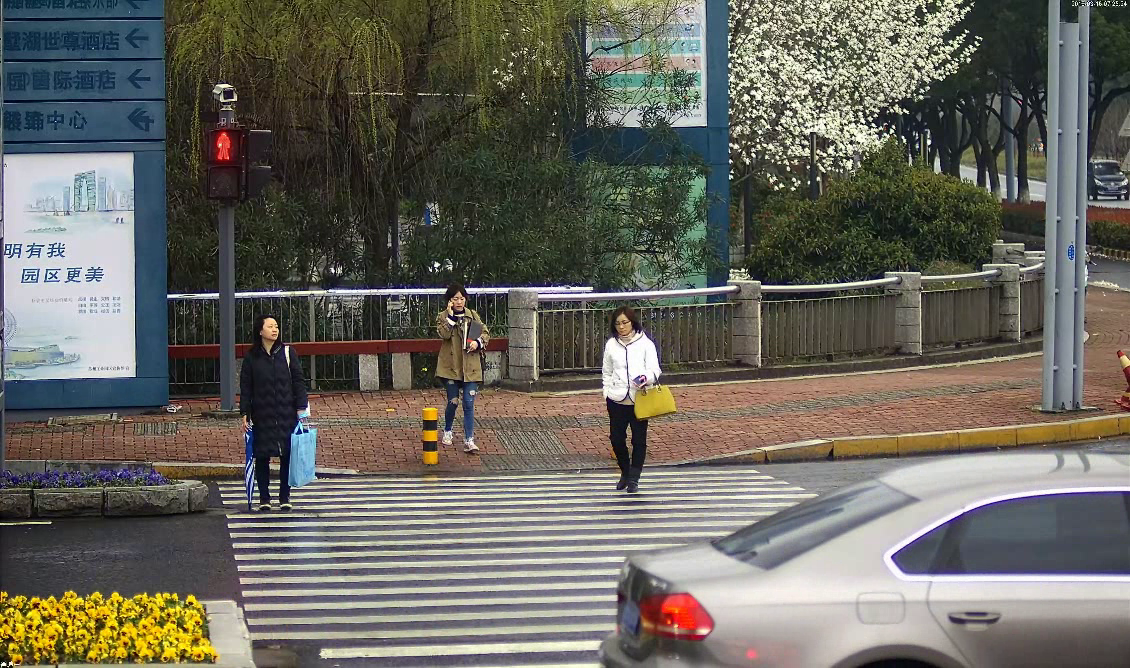person: (235, 315, 324, 518), (595, 301, 681, 499), (430, 280, 492, 458)
